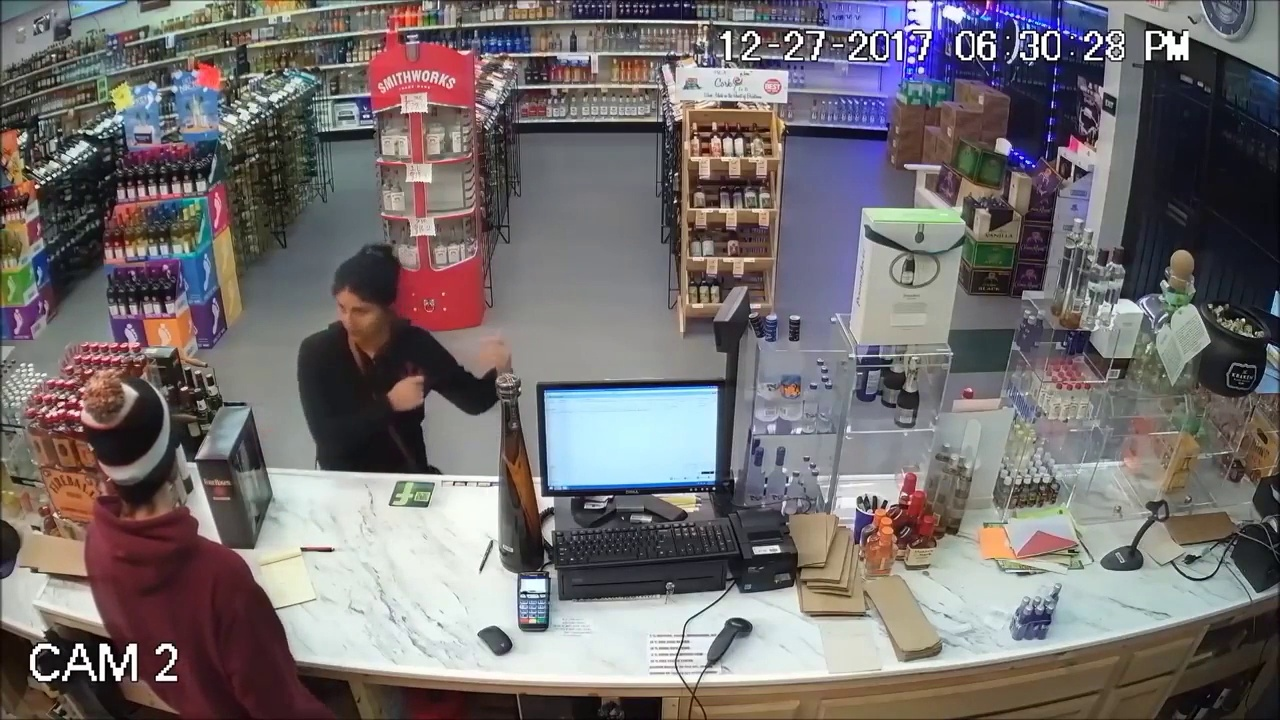face: (329, 285, 379, 345)
